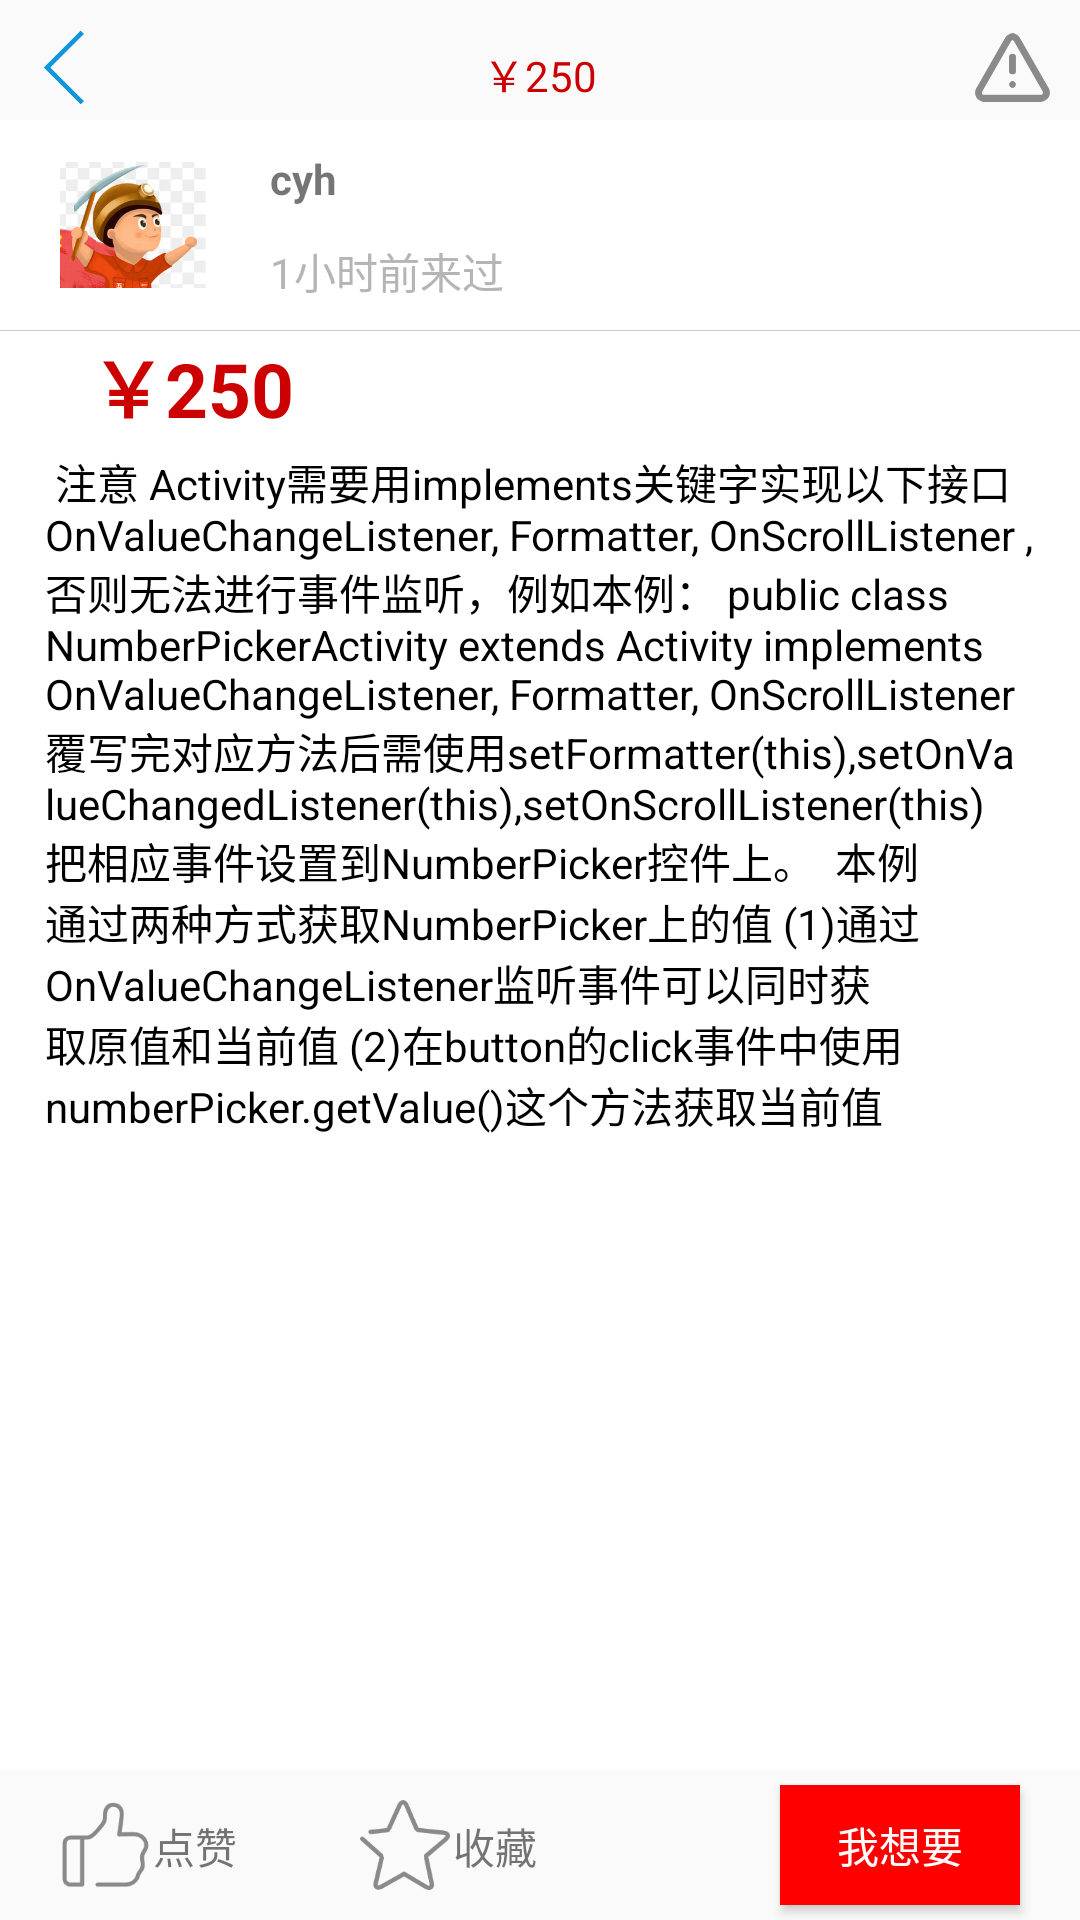

Screen size 1080x1920. Icon name, then its center in pixels as point (x, y):
back: point (64, 67)
head: point (129, 226)
report: point (1012, 67)
